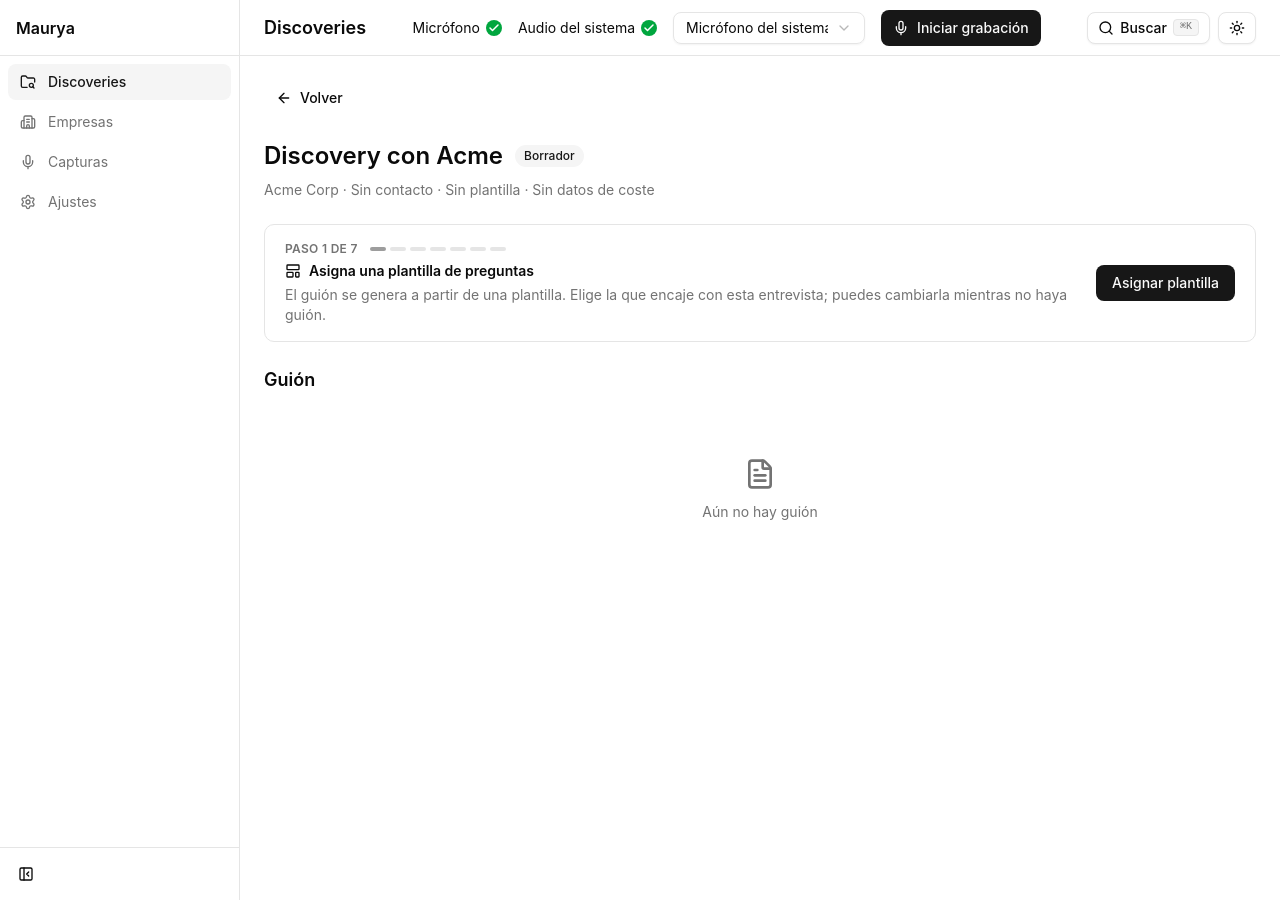
DiscardReasonsDialog (motivos al finalizar SPEC-039) › persists the written reasons with their real questionOutcomes indexes and shows the Motivos guardados toast on save
Click the button "Iniciar grabación" at (961, 28), box [881,10,1041,46]
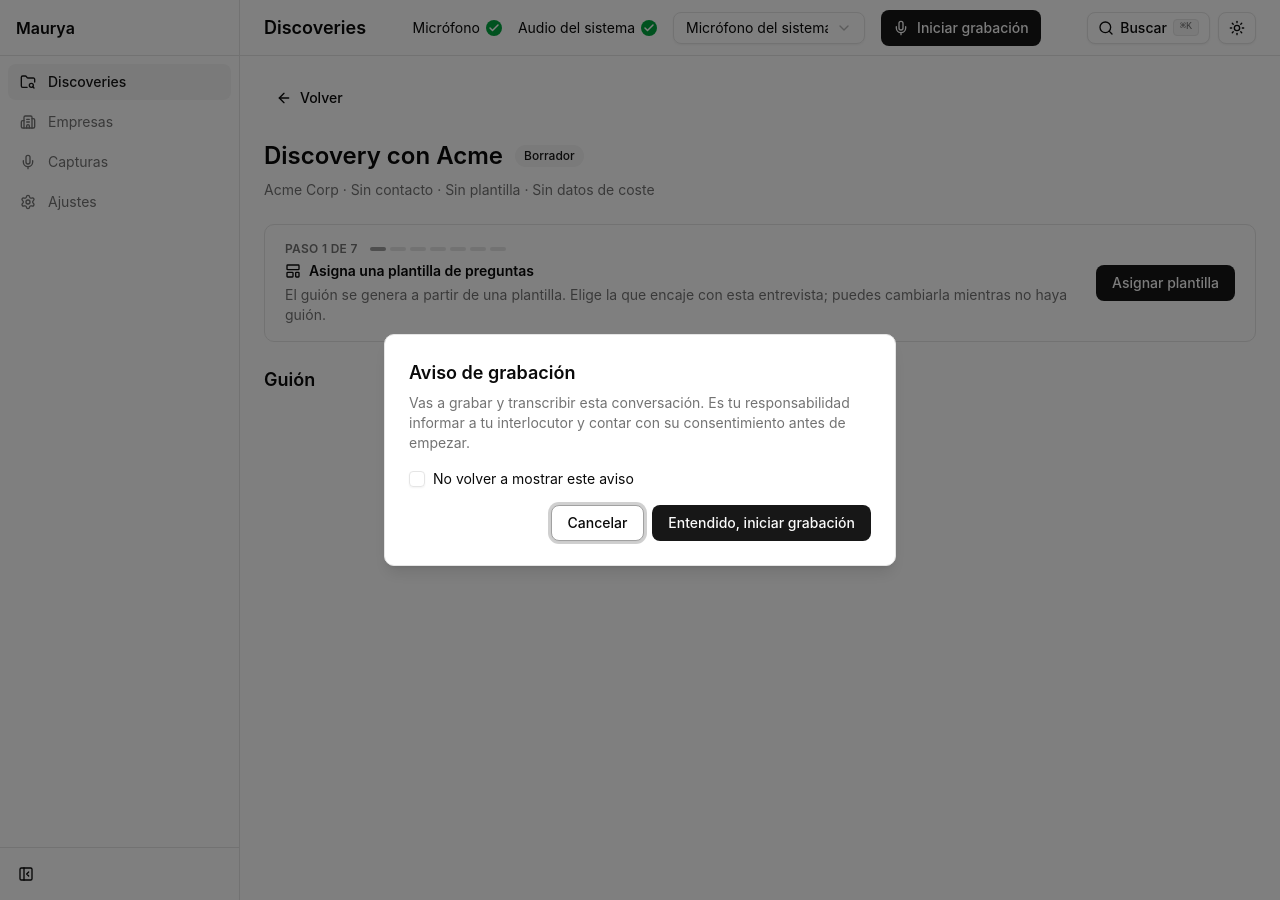
Click the button "Entendido, iniciar grabación" at (762, 523), box [652,505,871,541]
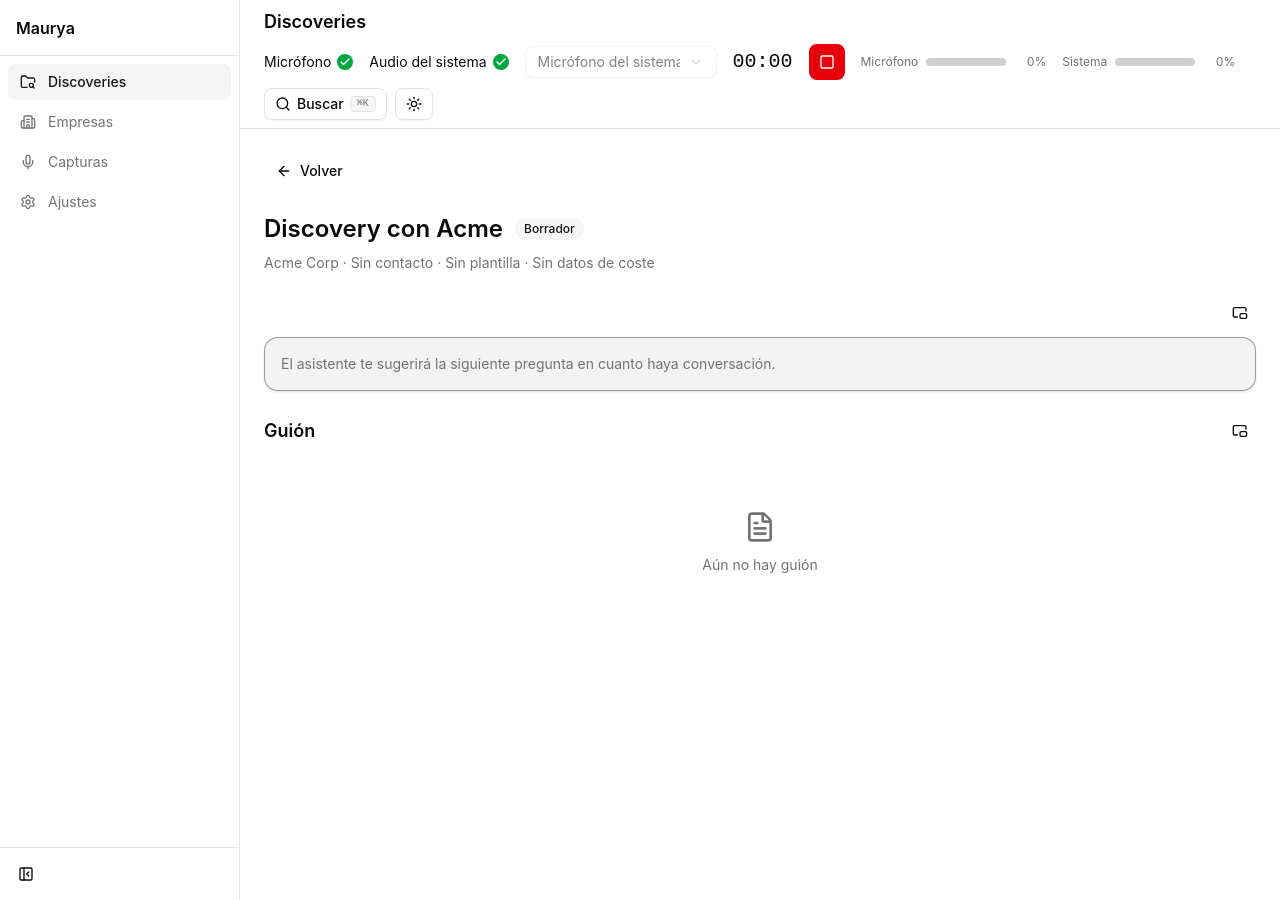
Now the button named "Detener" is shown
Click the button named "Detener" at (826, 62), box [808,44,844,80]
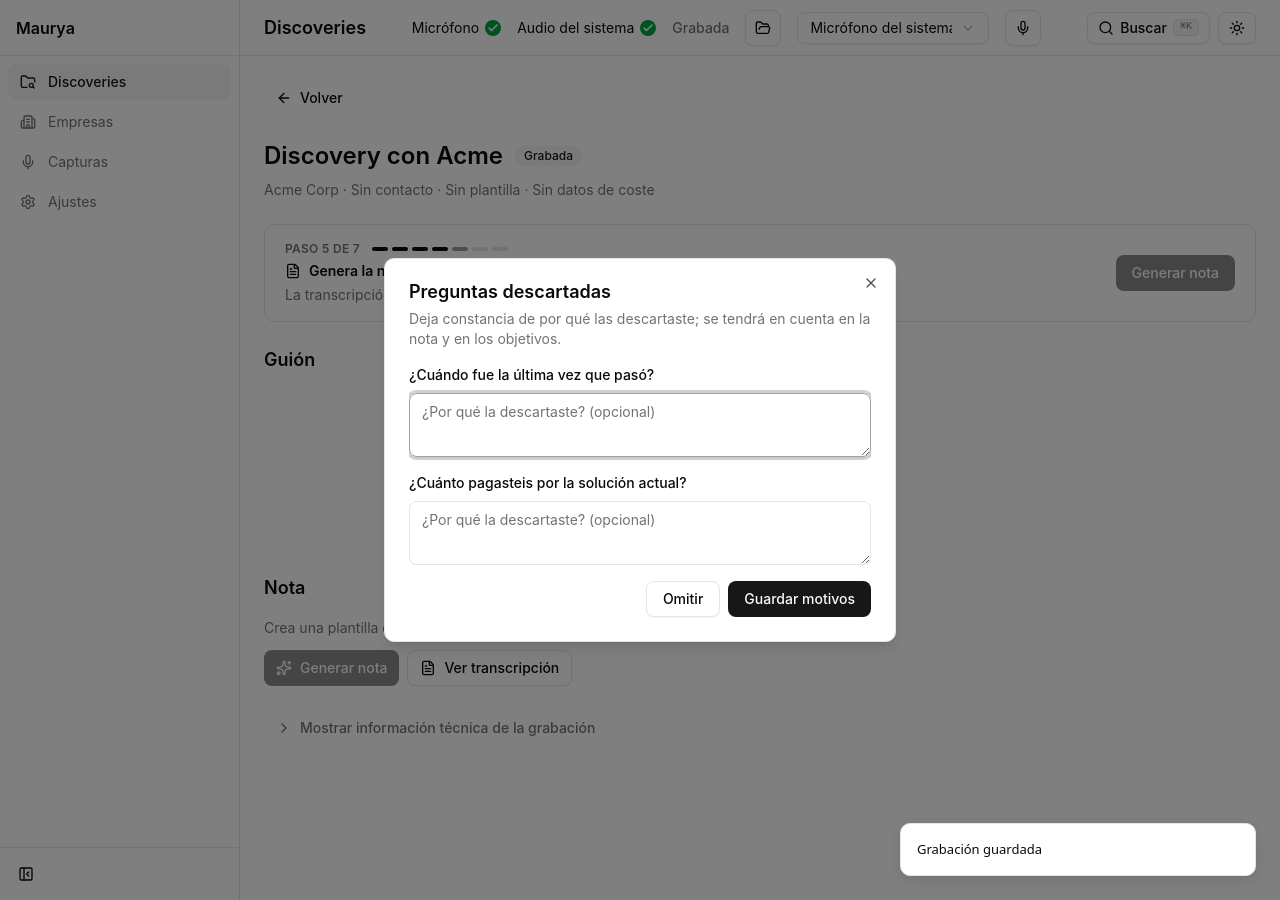
Type "Ya la respondió antes" into the text box with test id "discard-reason-input" at (640, 425), box [409,393,871,457]
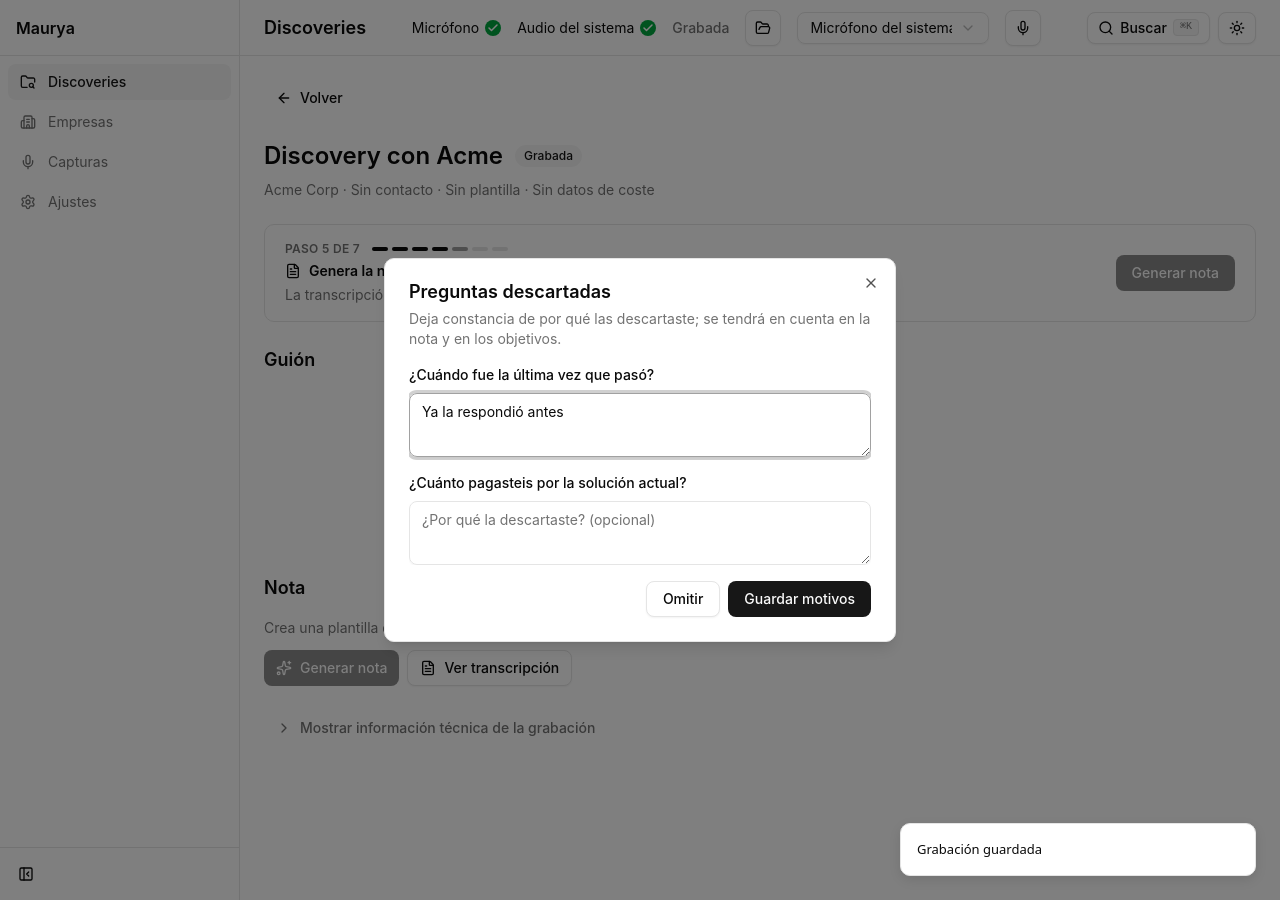
Type "Se nos acabó el tiempo" into the text box with test id "discard-reason-input" at (640, 533), box [409,501,871,565]
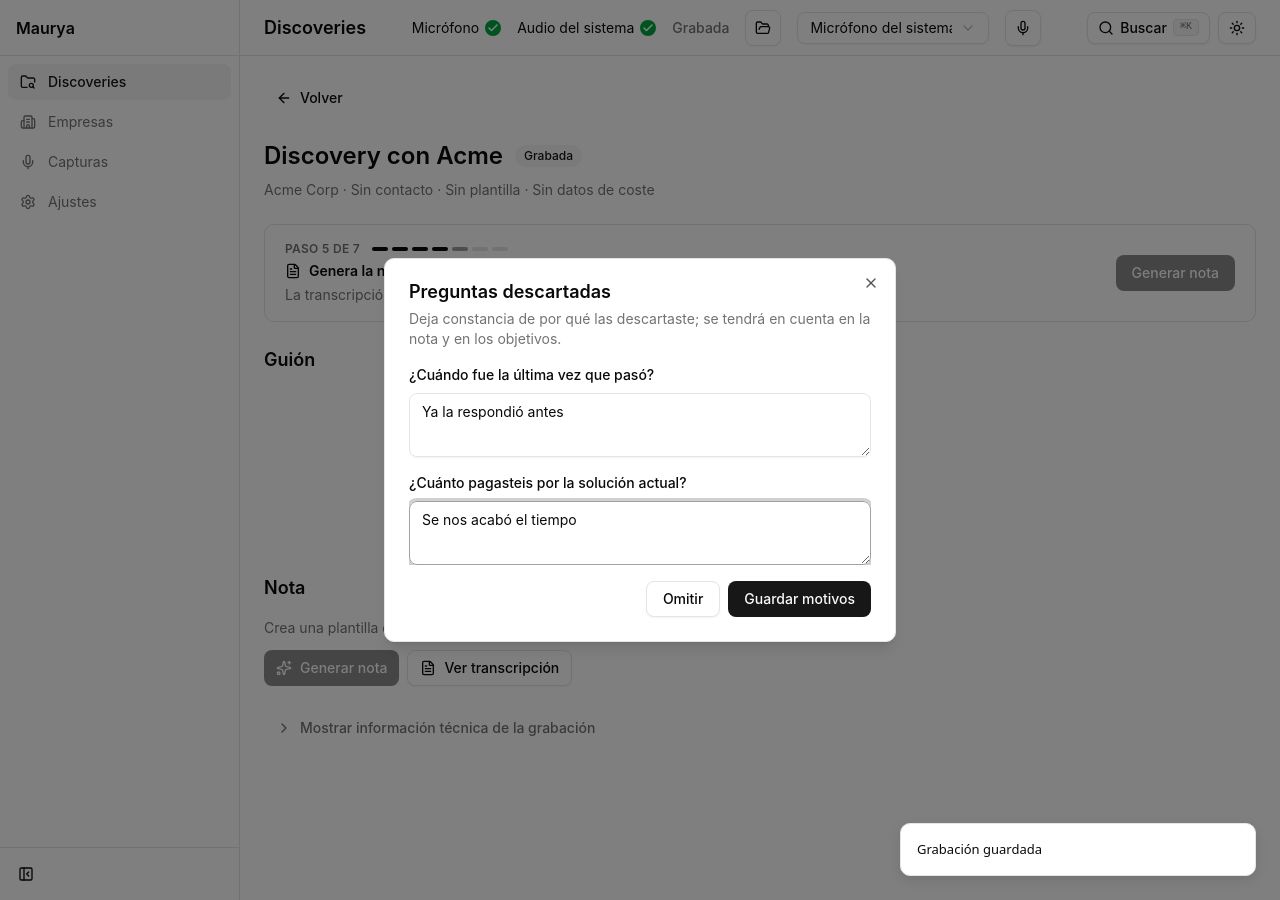
Click the button with test id "discard-reasons-save" at (800, 599), box [728,581,871,617]
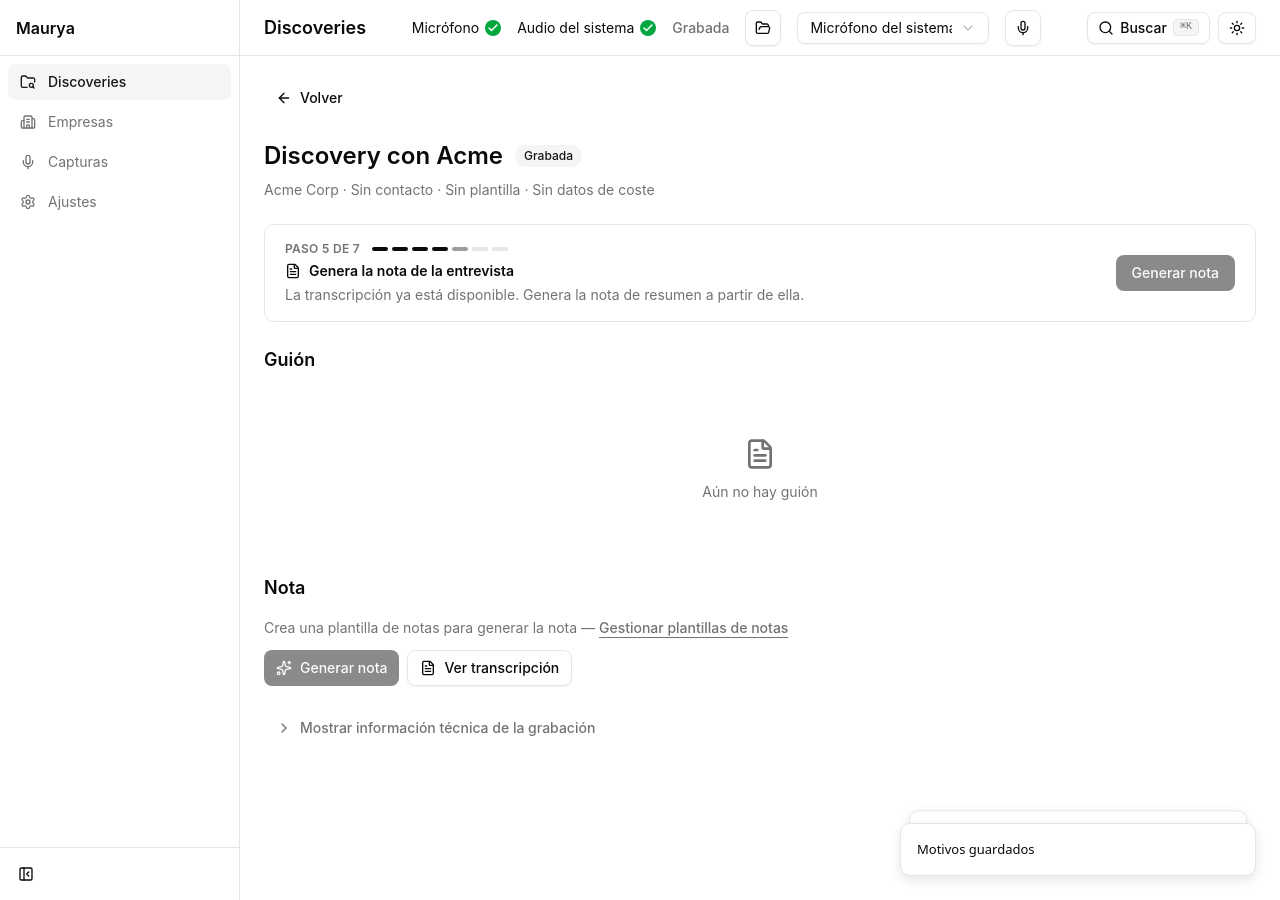
Now the dialog with test id "discard-reasons-dialog" is gone
